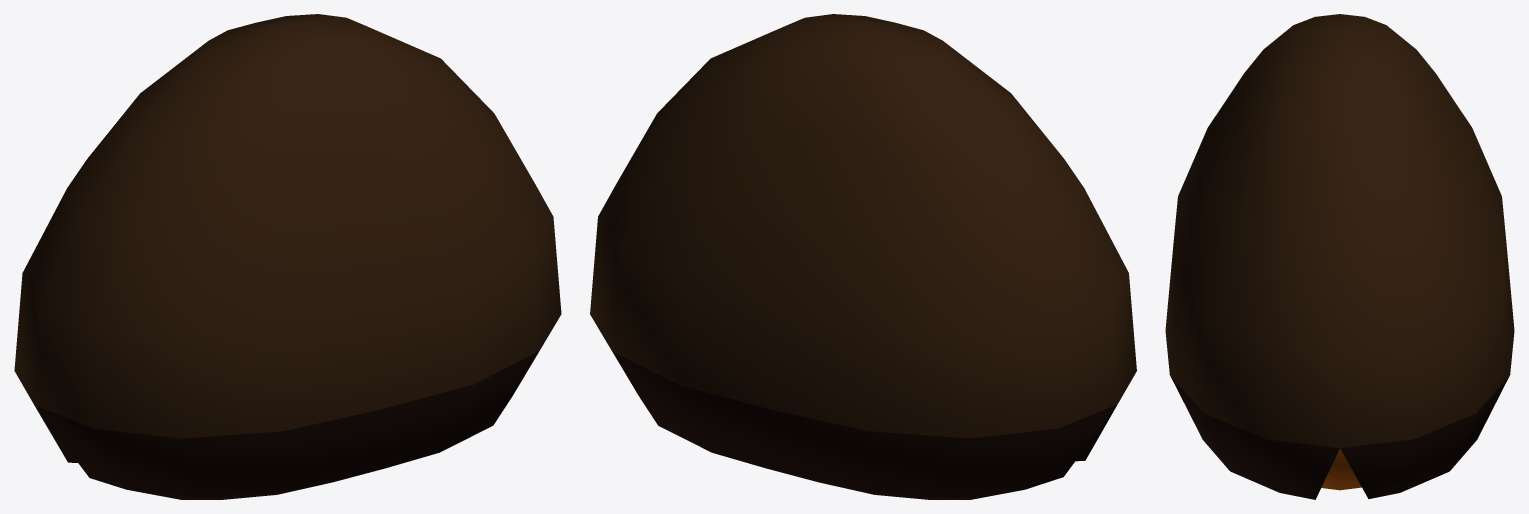
Rendered from ChestNut_UnderCrack.fbx.
The picture shows the model from 3 angles, left to right: view 1: azimuth 30°, elevation 25°; view 2: azimuth 150°, elevation 25°; view 3: azimuth 270°, elevation 25°; orthographic projection. The views are drawn at different scales.
Parts seen in each view (by area): view 1: Chestnut_Under Crack; view 2: Chestnut_Under Crack; view 3: Chestnut_Under Crack.
Part boxes in pixels (left/top/right/bottom): Chestnut_Under Crack: left=14, top=14, right=561, bottom=499; Chestnut_Under Crack: left=590, top=14, right=1136, bottom=499; Chestnut_Under Crack: left=1165, top=14, right=1514, bottom=499.
Size of the model in its own units: 50.6 by 41.45 by 31.83.
